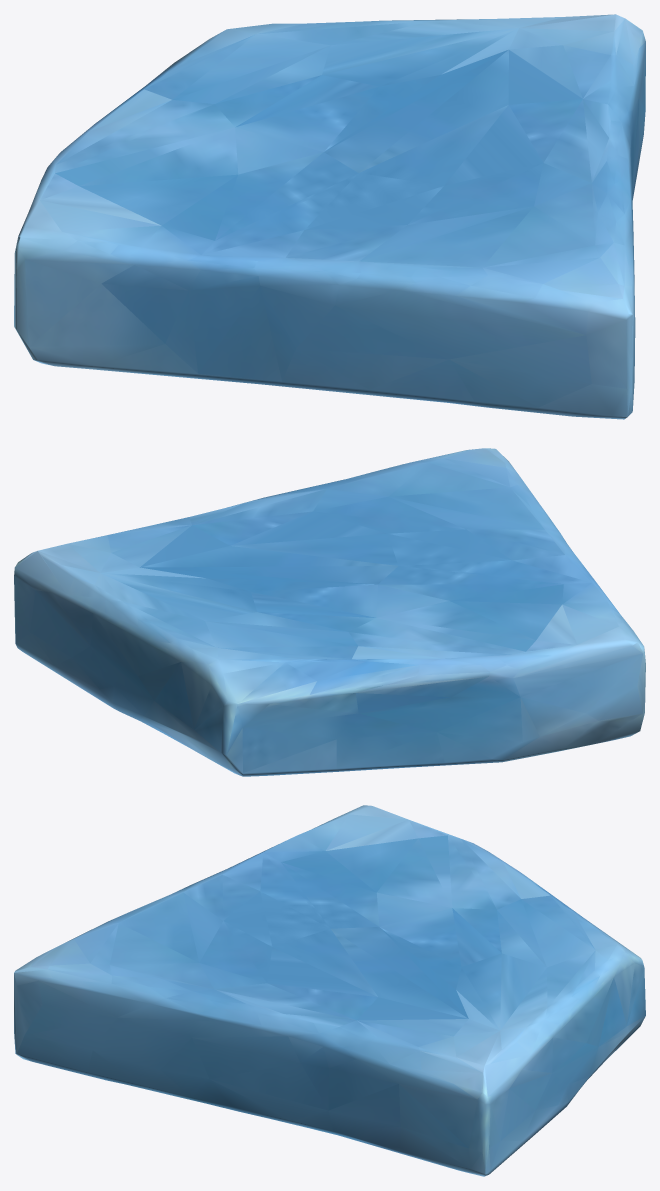
File: placa_hielo_rota_1_700.glb
3 views of the same model, one above another, from view 1: azimuth 30°, elevation 25°; view 2: azimuth 150°, elevation 25°; view 3: azimuth 270°, elevation 25° (orthographic). The views are drawn at different scales.
Visible parts, largest first — view 1: placa_hielo_rota_1_malla; view 2: placa_hielo_rota_1_malla; view 3: placa_hielo_rota_1_malla.
Part boxes in pixels (x1,y1,x2,y2): placa_hielo_rota_1_malla: (14,14,645,419); placa_hielo_rota_1_malla: (14,448,645,776); placa_hielo_rota_1_malla: (14,805,645,1176).
Bounding box in the file's own units: 0.1528 × 0.0277 × 0.1468.
1 material, 1 textured.
